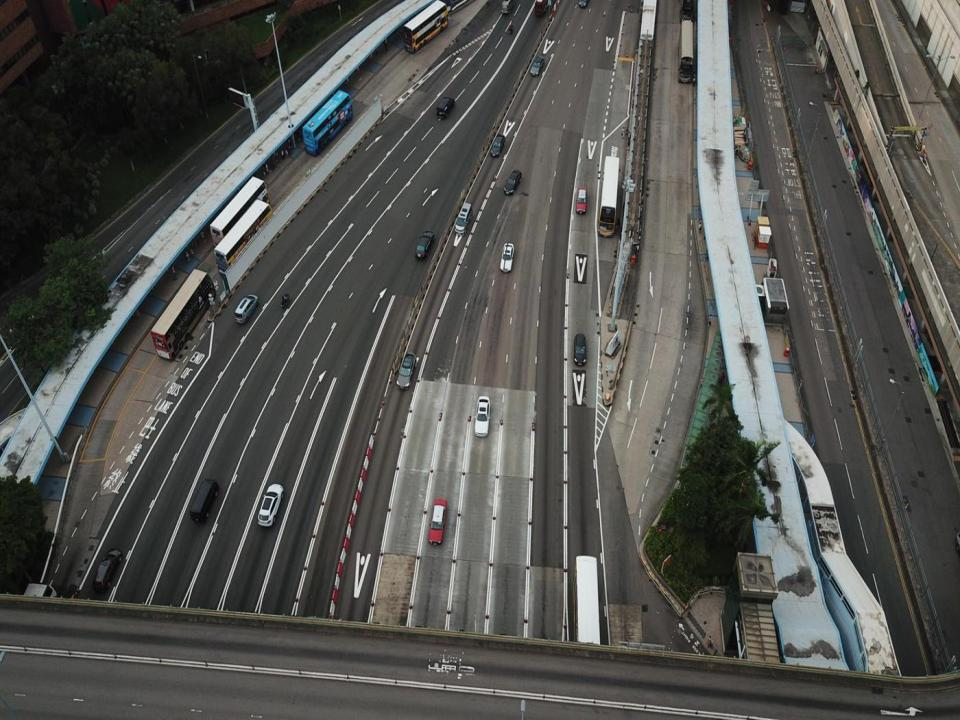bus: (151, 269, 216, 359), (3, 583, 57, 674), (209, 176, 270, 255), (213, 200, 274, 278), (303, 90, 353, 156), (573, 554, 600, 672), (403, 0, 449, 53), (598, 155, 619, 237), (678, 20, 694, 84), (534, 0, 552, 16)
car: (258, 483, 283, 526), (429, 498, 447, 545), (474, 395, 490, 436), (415, 231, 435, 259), (504, 169, 522, 194), (500, 243, 513, 272), (490, 134, 505, 157), (576, 185, 587, 213), (529, 56, 544, 76)
truck: (501, 0, 515, 13)
van: (189, 478, 219, 523), (92, 549, 121, 591), (396, 352, 417, 390), (234, 294, 258, 323), (454, 202, 472, 236), (573, 334, 587, 366), (436, 97, 455, 118)
